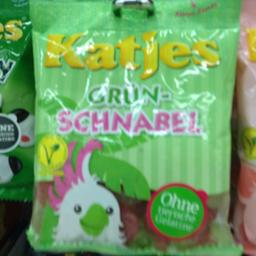candy: (26, 0, 240, 255)
